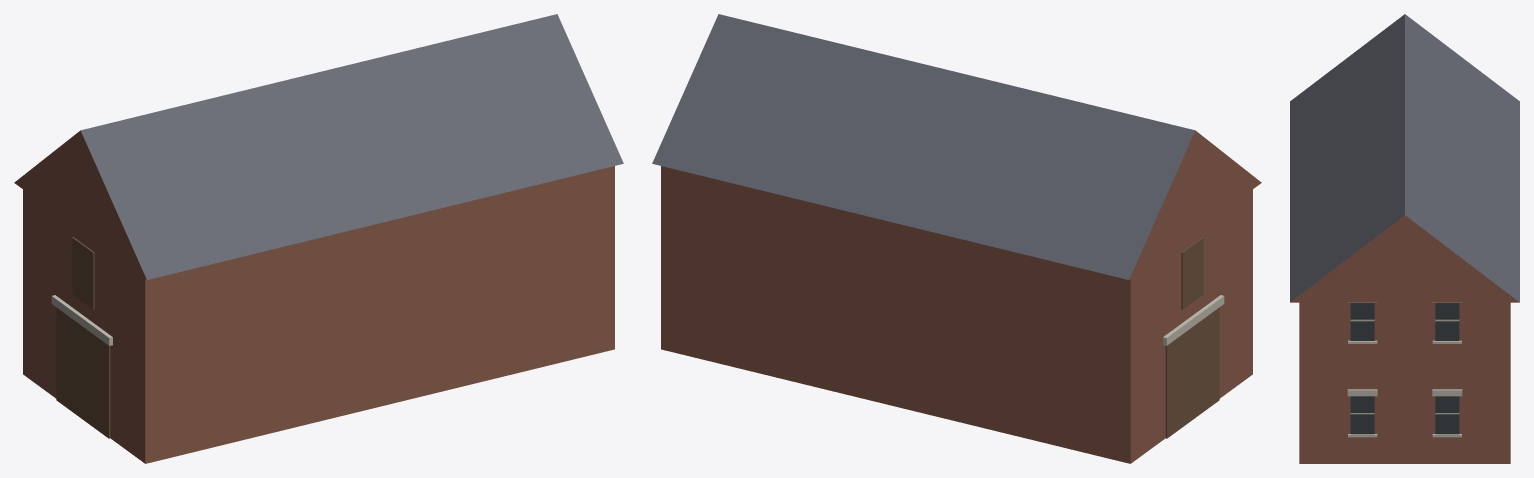
File: house_2019_indiana_coach_house__draft_1904.glb
The picture shows the model from 3 angles, left to right: view 1: azimuth 30°, elevation 25°; view 2: azimuth 150°, elevation 25°; view 3: azimuth 270°, elevation 25°; orthographic projection. The views are drawn at different scales.
Parts seen in each view (by area): view 1: house_2019_indiana_coach_house__draft_1904; view 2: house_2019_indiana_coach_house__draft_1904; view 3: house_2019_indiana_coach_house__draft_1904.
Boxes of the visible parts, bbox=[...] form: house_2019_indiana_coach_house__draft_1904: bbox=[14, 14, 623, 463]; house_2019_indiana_coach_house__draft_1904: bbox=[652, 14, 1261, 463]; house_2019_indiana_coach_house__draft_1904: bbox=[1290, 14, 1519, 463].
Size of the model in its own units: 15.74 by 9.14 by 7.6.
